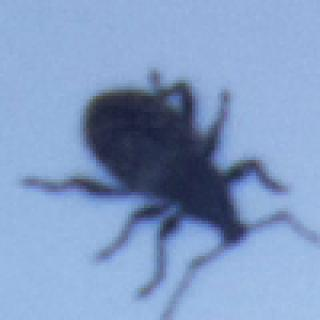bvw: (19, 67, 320, 320)
